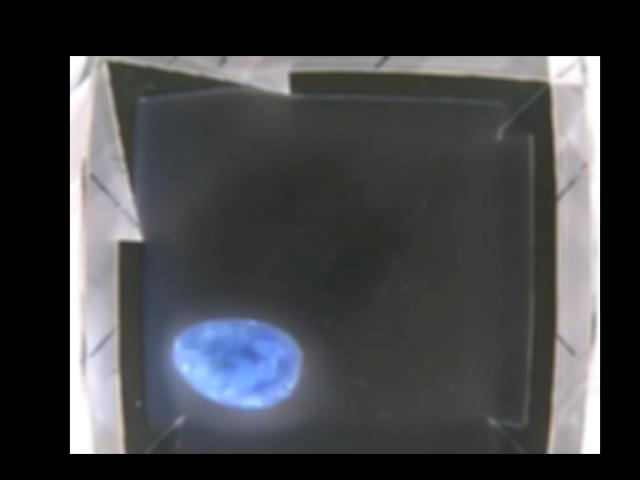Potato: (172, 317, 301, 409)
